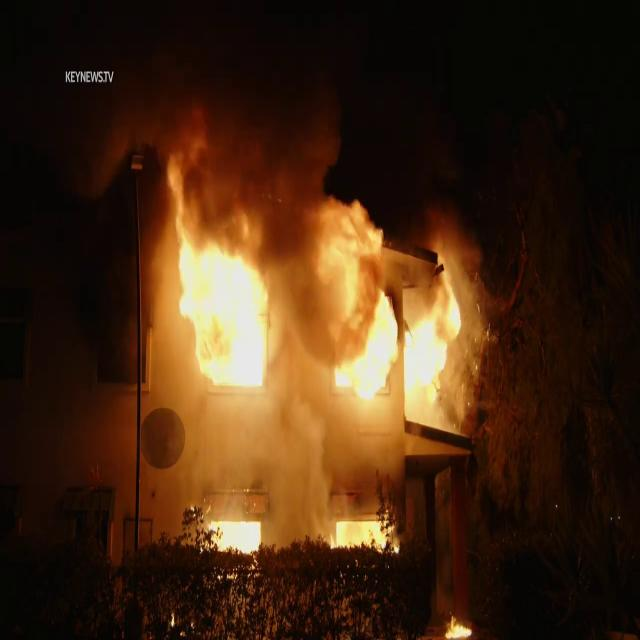Fire: (156, 147, 478, 441)
